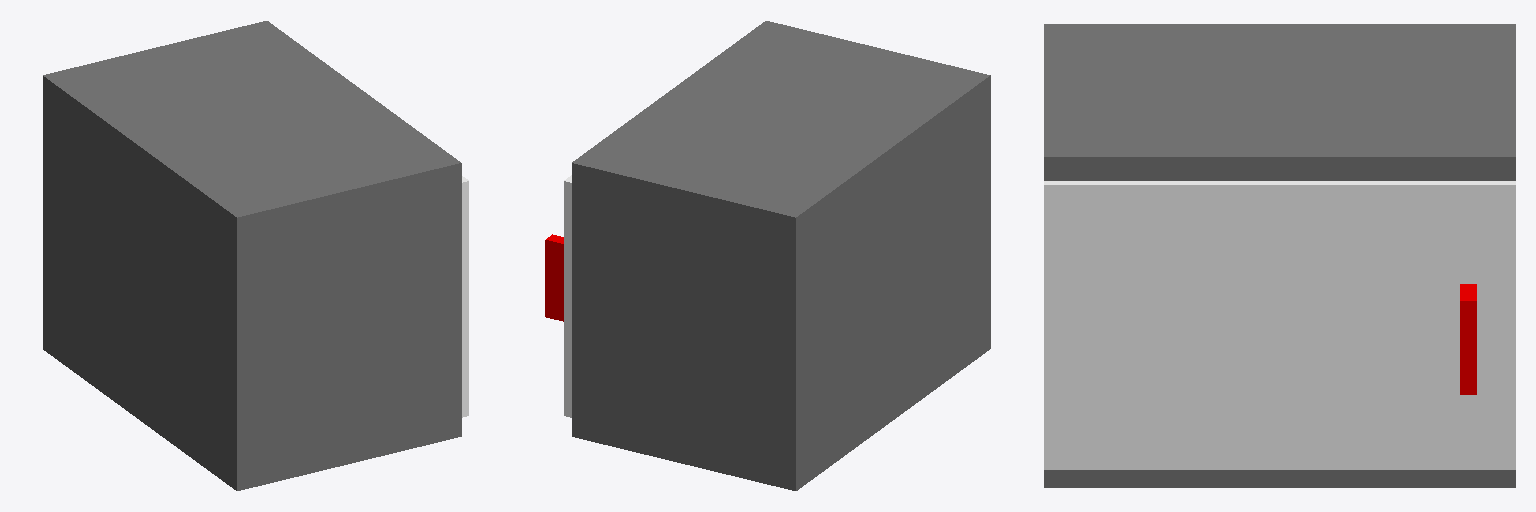
robot.urdf — freezer_top:
<?xml version="1.0"?>
<robot name="freezer_top">
  <link name="cabinet">
    <visual>
      <geometry><box size="0.2 0.3 0.233"/></geometry>
      <material name="gray"><color rgba="0.5 0.5 0.5 1"/></material>
      <origin xyz="0 0 0.1165"/>
    </visual>
  </link>

  <joint name="freezer_hinge" type="revolute">
    <axis xyz="0 0 1"/>
    <limit effort="100.0" lower="-1.57" upper="0." velocity="40"/>
    <parent link="cabinet"/>
    <child link="freezer_door"/>
    <origin xyz="0.1 -0.15 0.016"/>
    <dynamics damping="0.01" friction="0.01"/>
  </joint>

  <link name="freezer_door">
    <visual>
      <geometry><box size="0.007 0.3 0.2"/></geometry>
      <material name="white"><color rgba="1 1 1 1"/></material>
      <origin xyz="0.0035 0.15 0.1"/>
    </visual>
    <collision>
      <geometry><box size="0.007 0.3 0.2"/></geometry>
      <origin xyz="0.0035 0.15 0.1"/>
    </collision>
    <inertial>
      <mass value="0.1"/>
      <inertia ixx="0.001" ixy="0.0" ixz="0.0" iyy="0.001" iyz="0.0" izz="0.001"/>
    </inertial>
  </link>

  <joint name="handle_joint" type="fixed">
    <parent link="freezer_door"/>
    <child link="door_handle"/>
    <origin xyz="0.025 0.27 0.1"/>
  </joint>

  <link name="door_handle">
    <contact>
       <lateral_friction value="2.0"/>
       <spinning_friction value="0.01"/>
    </contact>
    <visual>
      <geometry><box size="0.025 0.011 0.066"/></geometry>
      <material name="red"><color rgba="1 0 0 1"/></material>
    </visual>
    <collision><geometry><box size="0.025 0.011 0.1"/></geometry></collision>
    <inertial>
      <mass value="0.1"/>
      <inertia ixx="0.001" ixy="0.0" ixz="0.0" iyy="0.001" iyz="0.0" izz="0.001"/>
    </inertial>
  </link>
</robot>

--- Render facts (derived) ---
3 views of the same robot in one strip: view 1: azimuth 30°, elevation 25°; view 2: azimuth 150°, elevation 25°; view 3: azimuth 270°, elevation 25° (orthographic).
Model freezer_top with 3 links and 2 joints (1 revolute, 1 fixed), rooted at cabinet, posed all joints at 0.
Links seen in each view (by area): view 1: cabinet, freezer_door; view 2: cabinet, freezer_door, door_handle; view 3: freezer_door, cabinet, door_handle.
Link boxes in pixels (left/top/right/bottom): cabinet: left=43, top=21, right=461, bottom=490; freezer_door: left=462, top=176, right=468, bottom=417; cabinet: left=572, top=21, right=990, bottom=490; freezer_door: left=564, top=175, right=571, bottom=417; door_handle: left=545, top=234, right=563, bottom=321; freezer_door: left=1044, top=181, right=1515, bottom=469; cabinet: left=1044, top=24, right=1515, bottom=487; door_handle: left=1460, top=284, right=1476, bottom=394.
Size in the robot's own frame: 0.2375 by 0.3 by 0.233 metres.
Geometry: primitives only (box / cylinder / sphere), no mesh files.